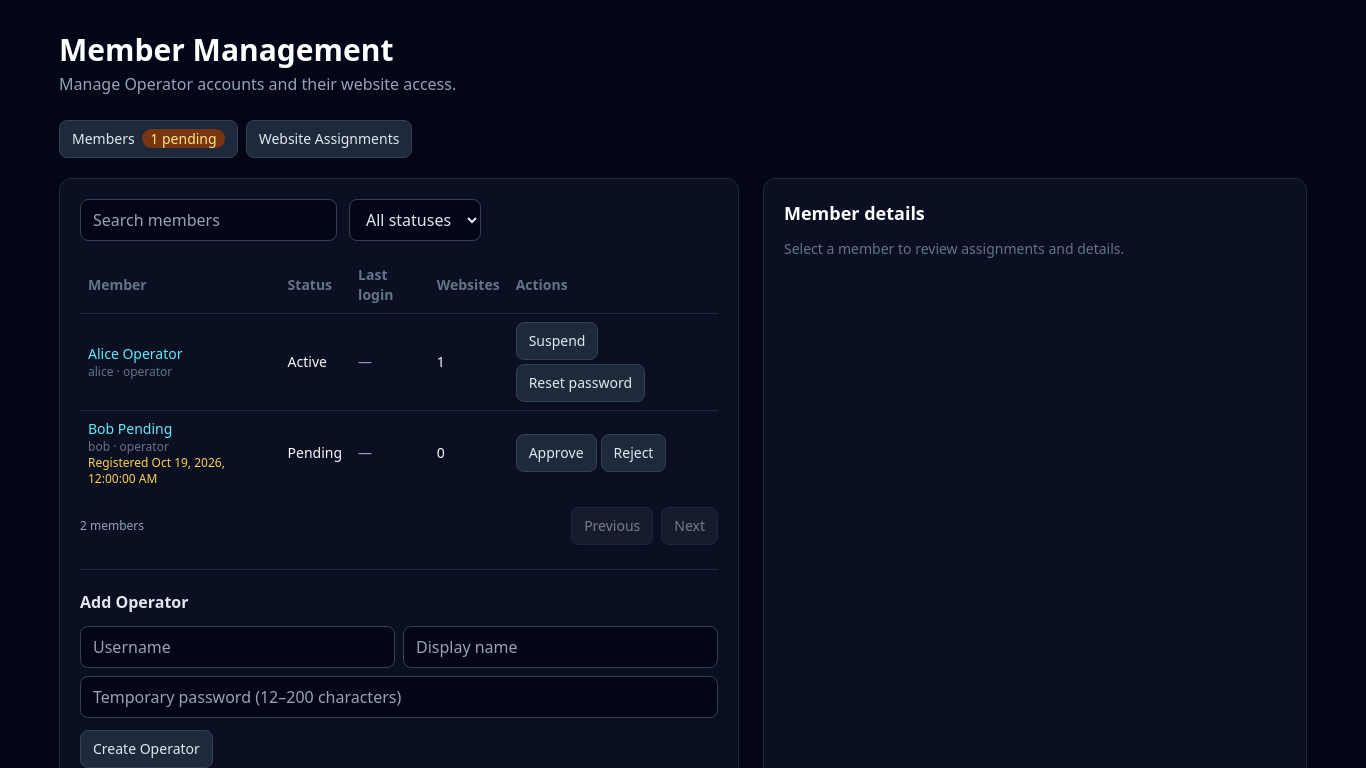
Test: MembersPage behavioral regressions (F-03 & F-09) › preserves active status filter and refreshes selected member details after a mutation (F-03)
Check: the button "Alice Operator" is shown, box [88,344,182,364]
Check: the button "Bob Pending" is shown, box [88,419,172,439]
Select "Active" in the dropdown showing "All statuses" at (415, 220), box [349,199,481,241]
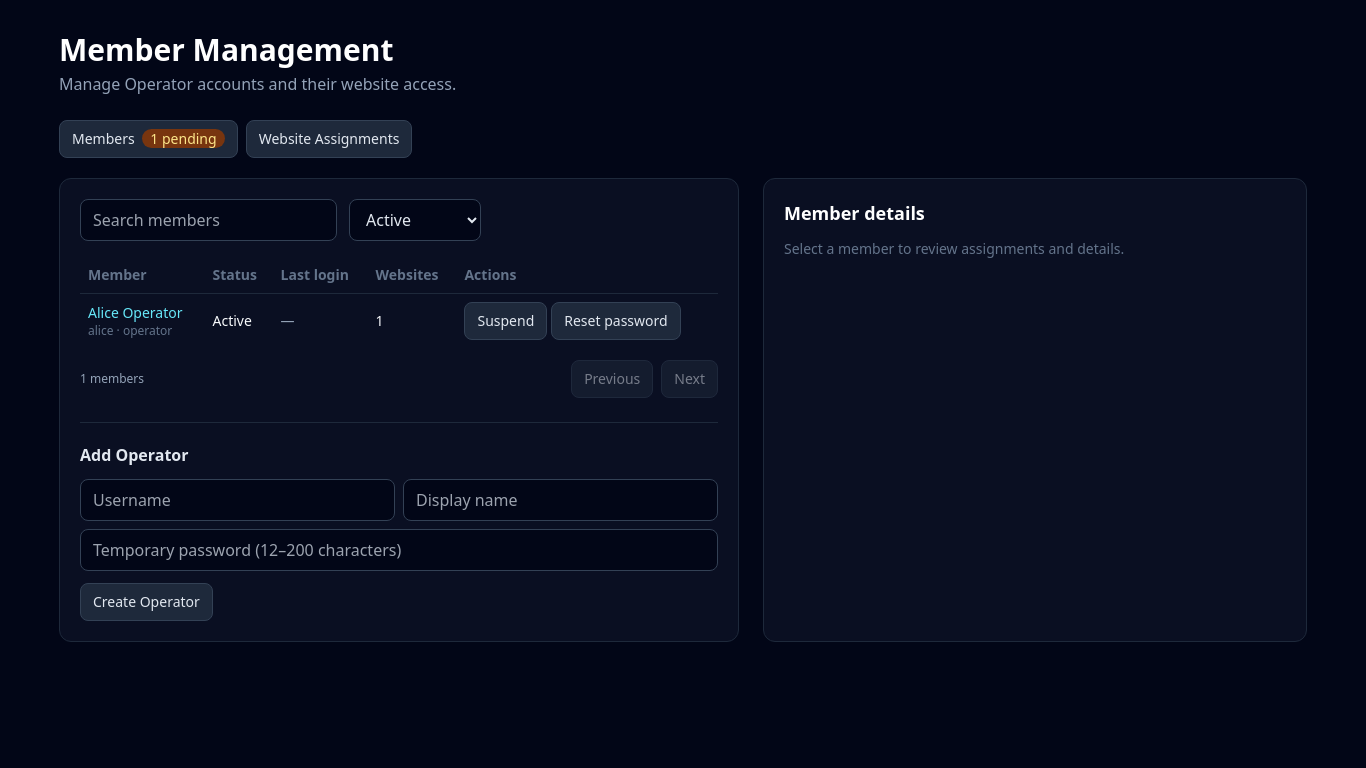
Check: the button "Bob Pending" is gone
Select Alice and update display name
Click the button "Alice Operator" at (135, 313), box [88,303,182,323]
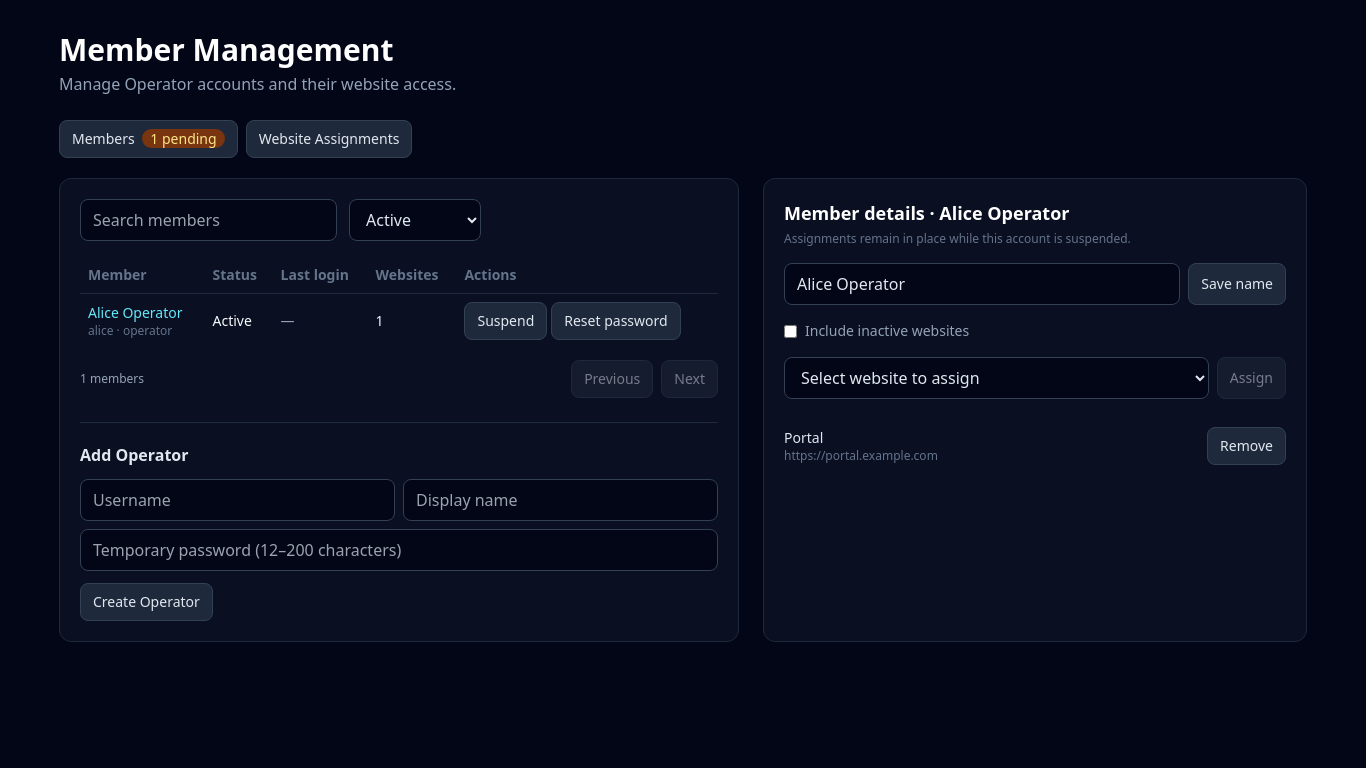
Check: the heading "Member details · Alice Operator" is shown, box [784,201,1070,225]
Replace the text in the field named "Display name" with "Alice Renamed" at (982, 284), box [784,263,1180,305]
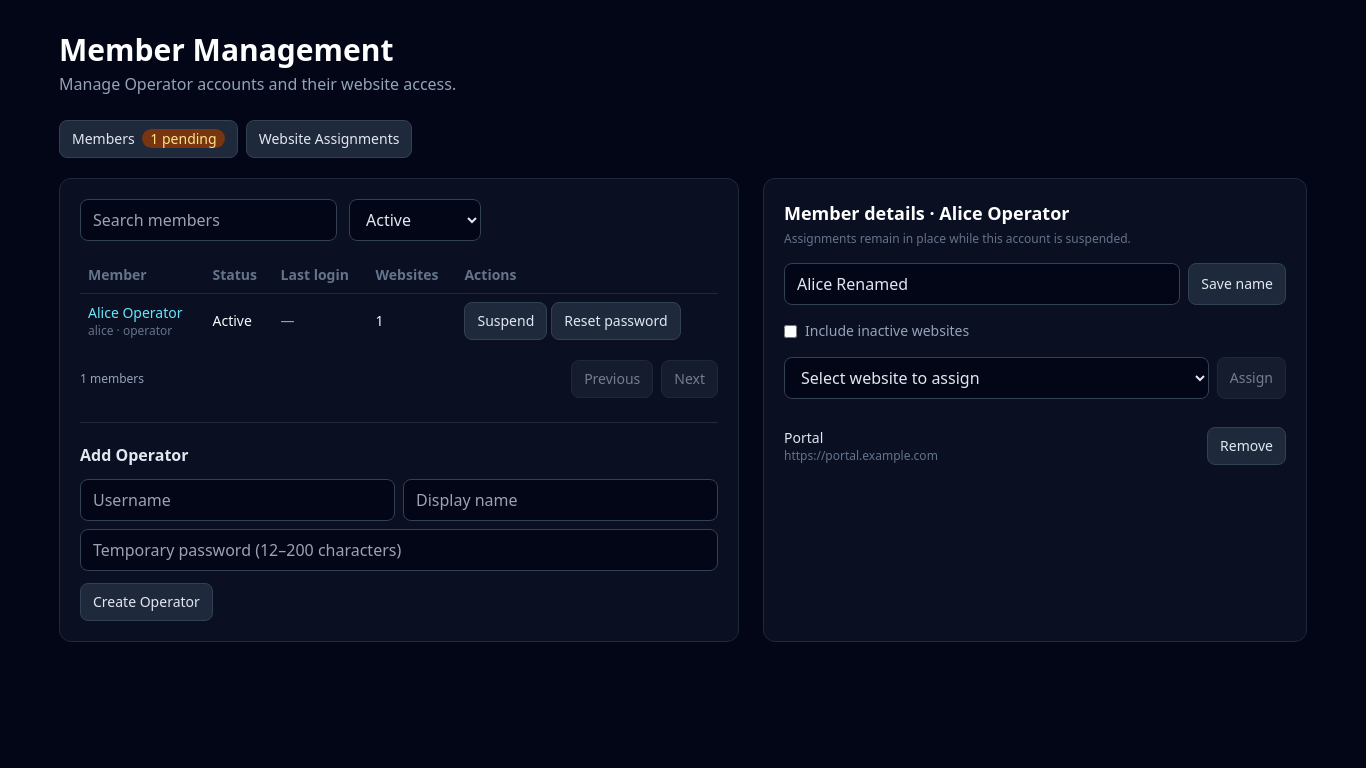
Click the button "Save name" at (1237, 284), box [1188,263,1286,305]
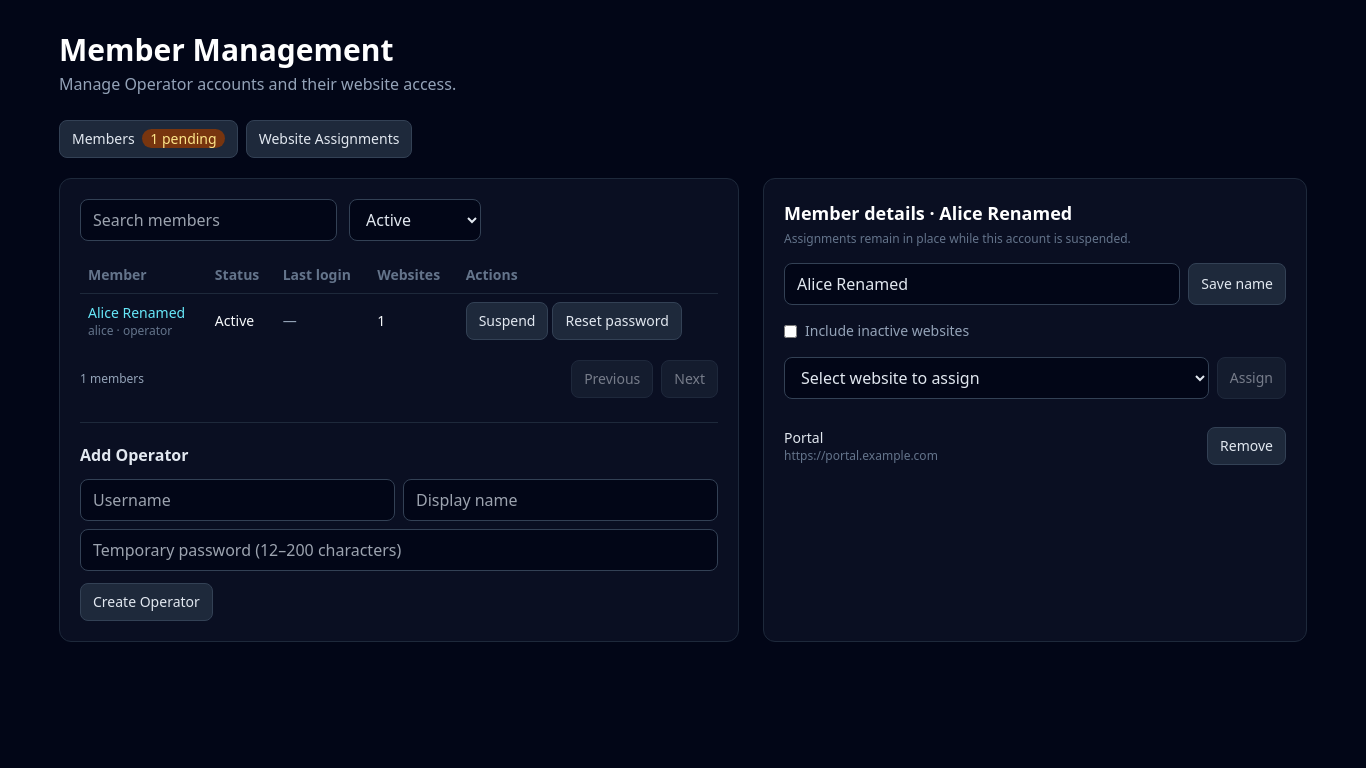
Check: the button "Bob Pending" is not shown
Check: the heading "Member details · Alice Renamed" is shown, box [784,201,1072,225]
Check: the button "Alice Renamed" is shown, box [88,303,185,323]
